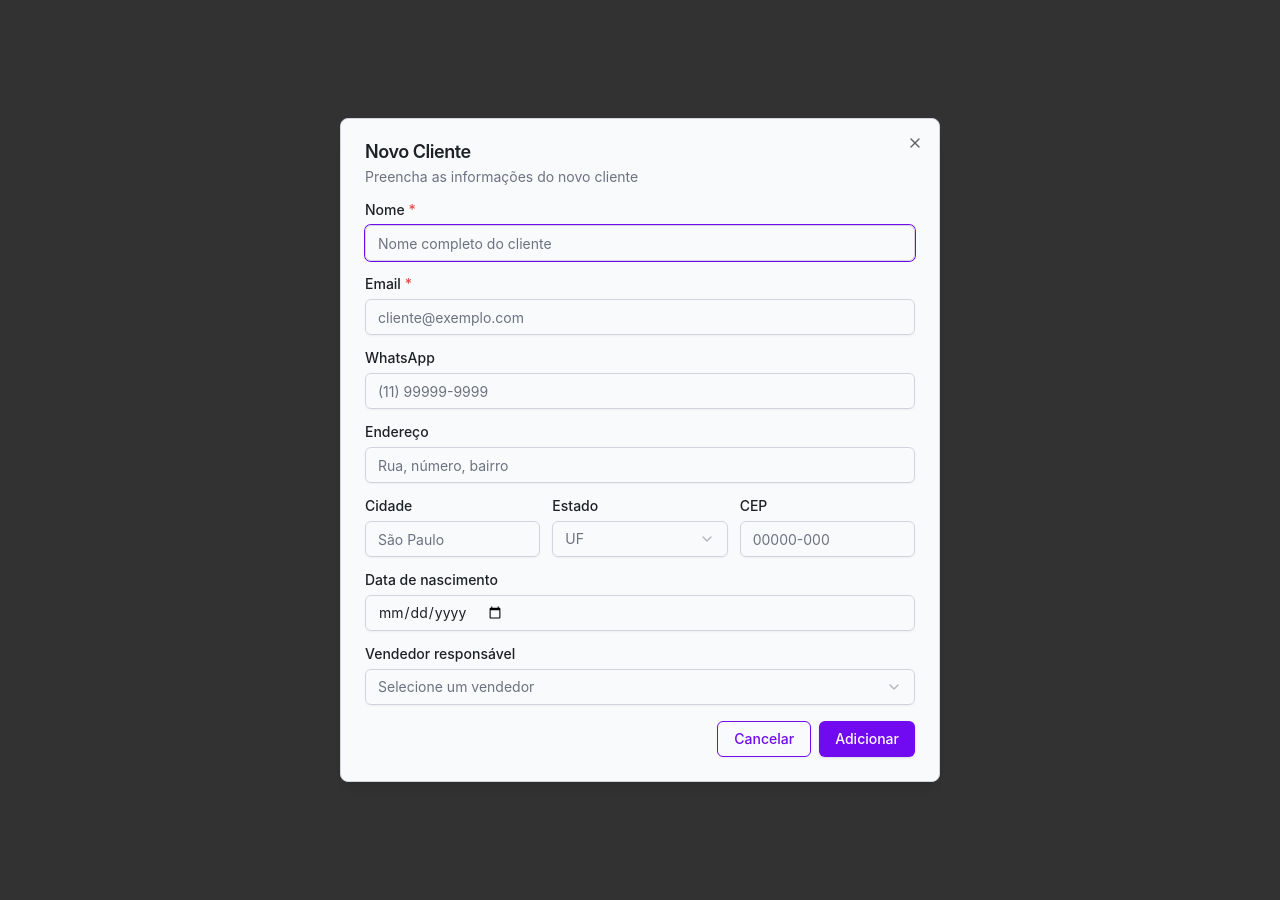
Test: FormularioCliente › validation › deve exibir erro quando email está vazio
Type "João Silva" into the field labelled "Nome *" at (640, 243), box x1=365 y1=225 x2=915 y2=261
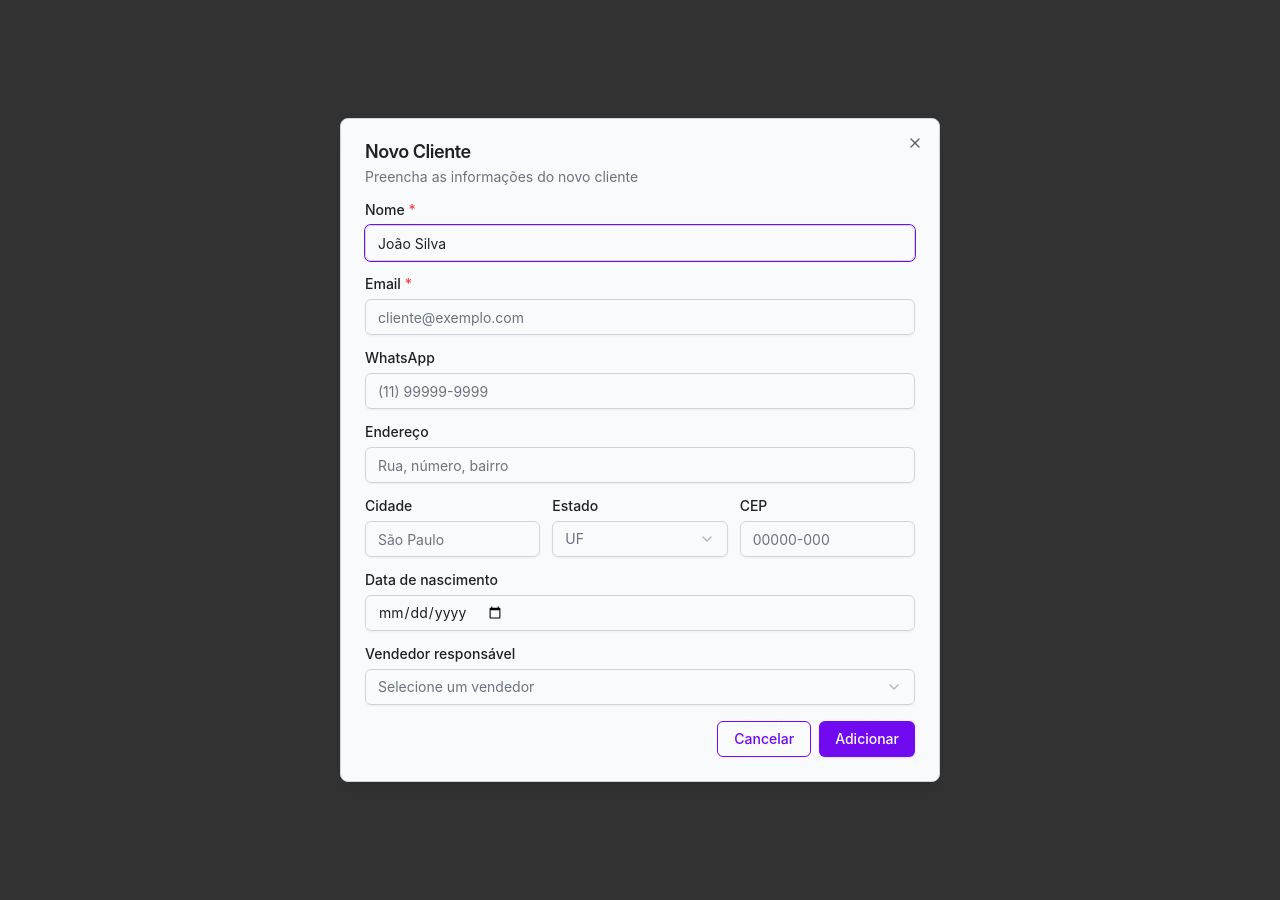
Click the button "Adicionar" at (867, 739), box x1=819 y1=721 x2=915 y2=757
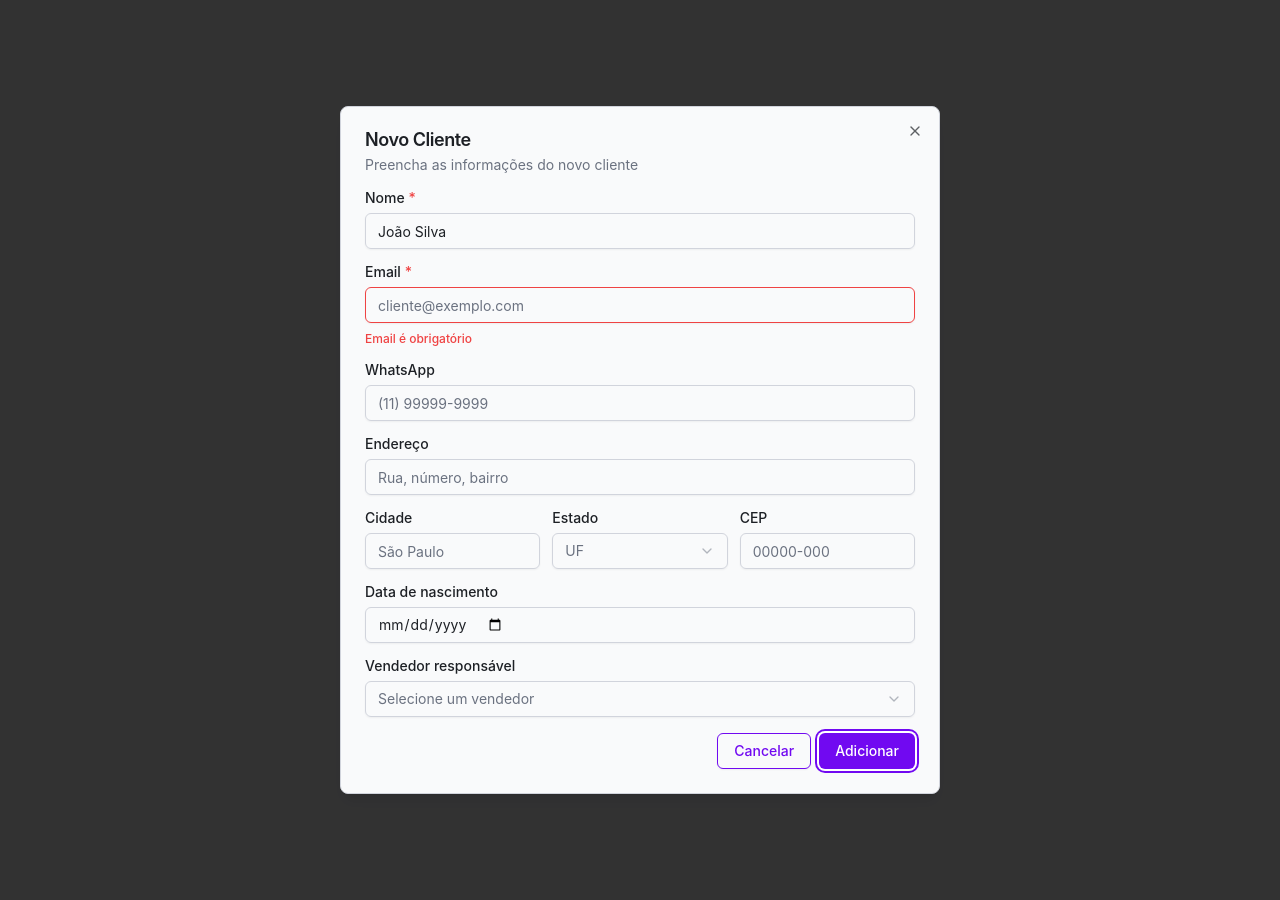
Expected: the text "Email é obrigatório" is shown, x1=365 y1=331 x2=472 y2=346
